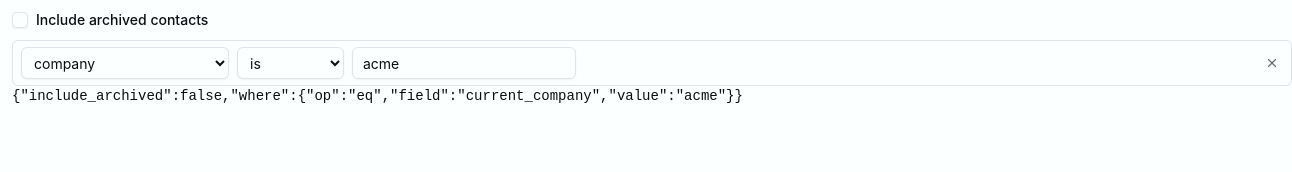
Test case: changing the column of a comparison › drops it when the new column is a different kind, even though both are strings
Select "met" in the dropdown named "Field": (125, 63) [21,47,229,79]
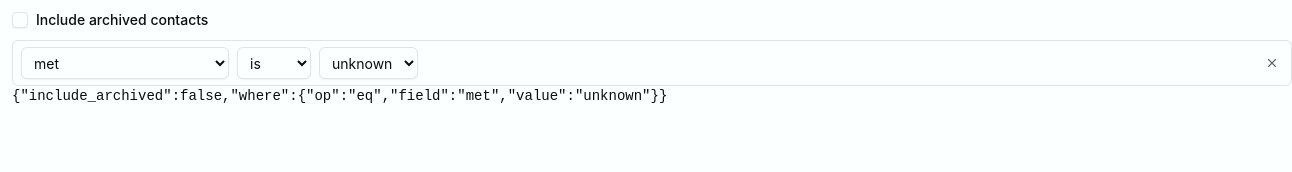
Check: the dropdown named "Value" shows "unknown", box [319,47,418,79]
